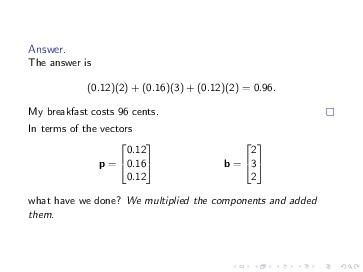paragraph: (25, 56, 334, 233)
title: (25, 42, 72, 54)
